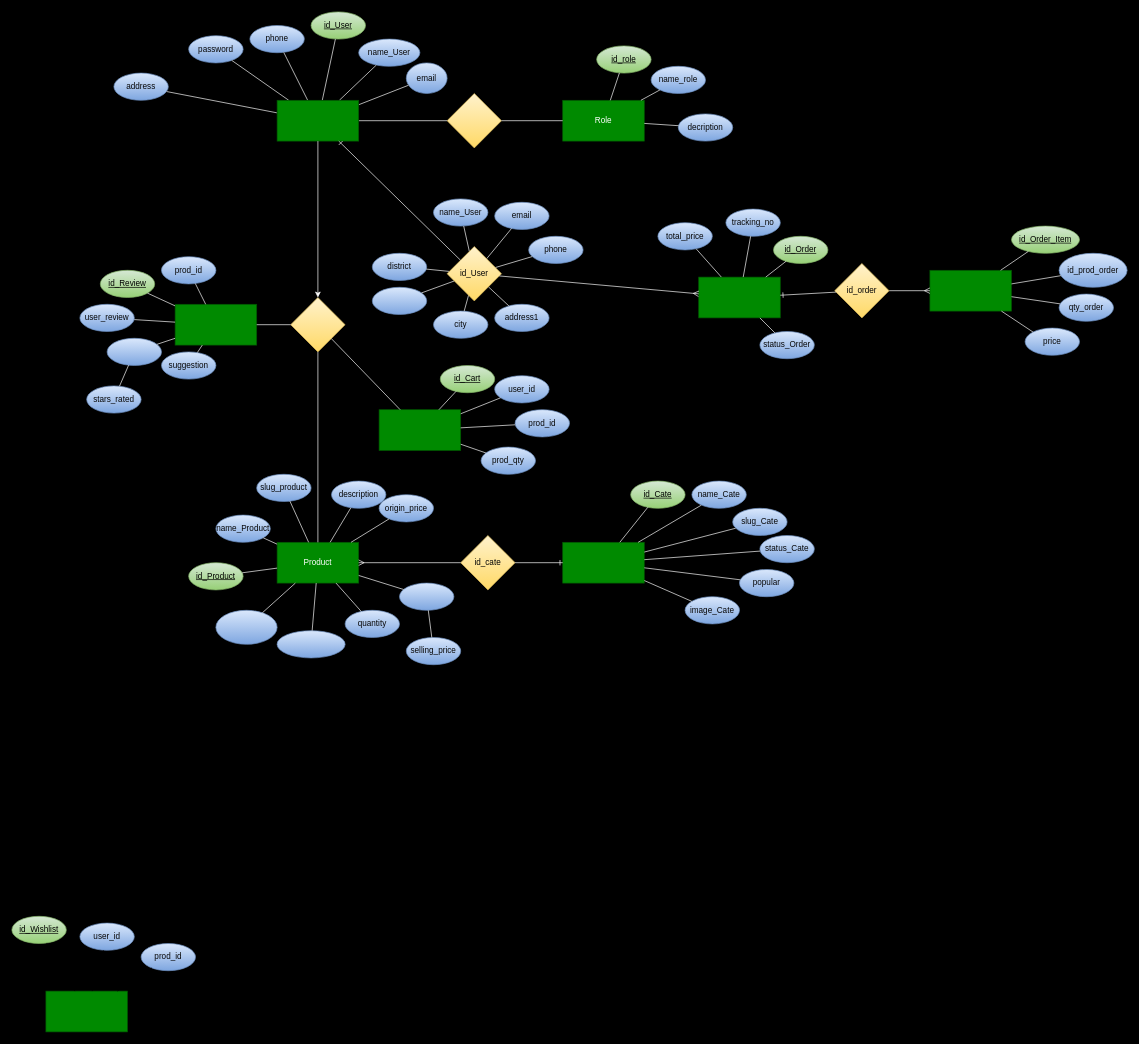
Image size: 1139x1044. Some labels were removed from this diagram. Here are the shapes that lost their labels. From the top down, the centre of each, then its label:
[317,120]: Users
[474,120]: Có
[399,300]: ward
[739,297]: Orders
[970,290]: Order_items
[215,324]: Review
[317,324]: Biết
[134,352]: rating
[419,430]: Cart
[603,562]: Category
[426,596]: trending
[246,627]: image_Product
[310,644]: status_Product
[86,1011]: Wishlist
